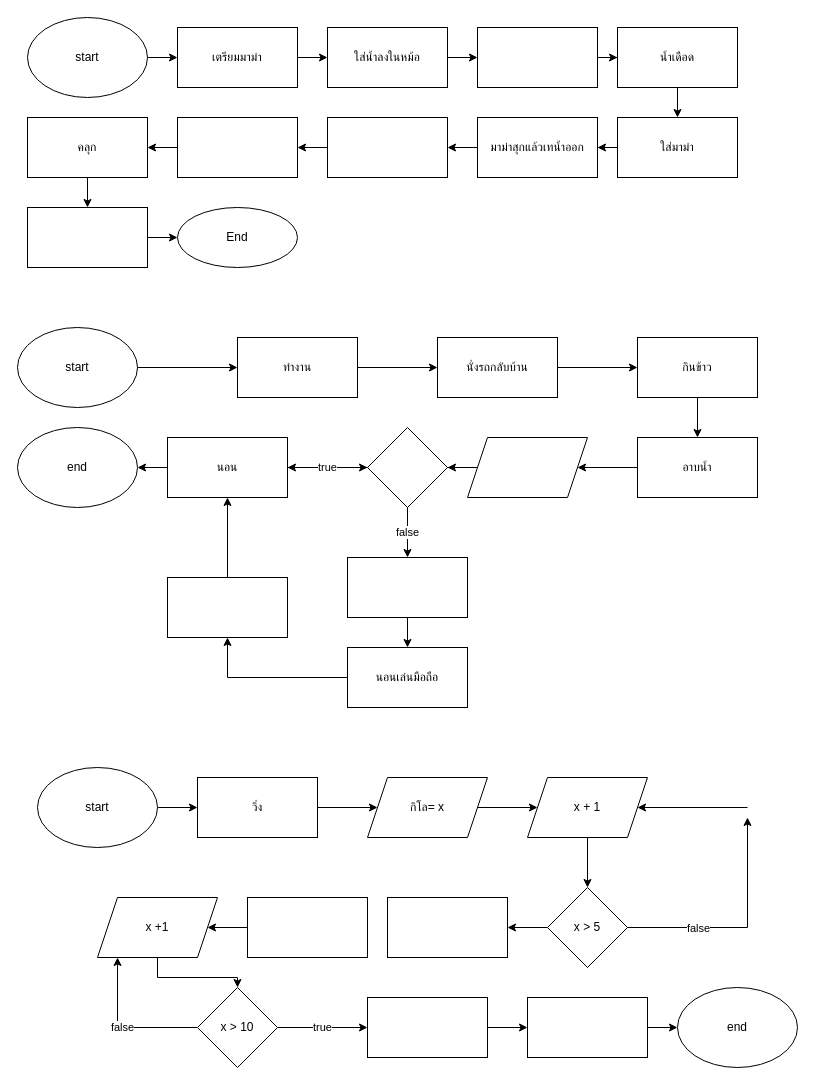
The diagram is 815 pixels wide and 1085 high, and some of its shapes have lost their labels. Here are the shapes that lost their labels. From the top down, the centre of each, then its label:
pixel 537 57: ต้มน้ำ
pixel 237 147: ใส่ผง
pixel 387 147: เทมาม่าใส่จาน
pixel 87 237: กิน
pixel 407 467: x > 1
pixel 527 467: ความเหนื่อย = x
pixel 227 607: ปิดไฟ
pixel 407 587: เล่นเกม
pixel 307 927: ปั่น จักรยาน
pixel 447 927: หยุดวิ่ง
pixel 427 1027: หยุดออกกำลังกาย
pixel 587 1027: กลับบ้าน
